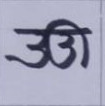i_matra: (70, 18, 93, 66)
